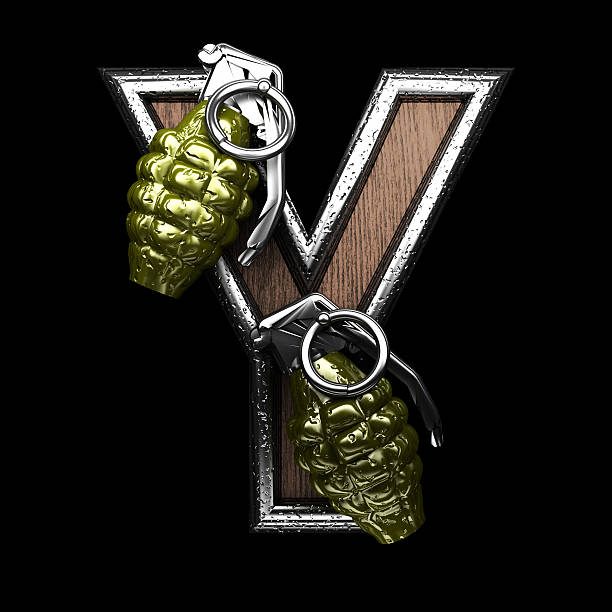e1: (255, 295, 447, 542), (124, 43, 285, 294)
